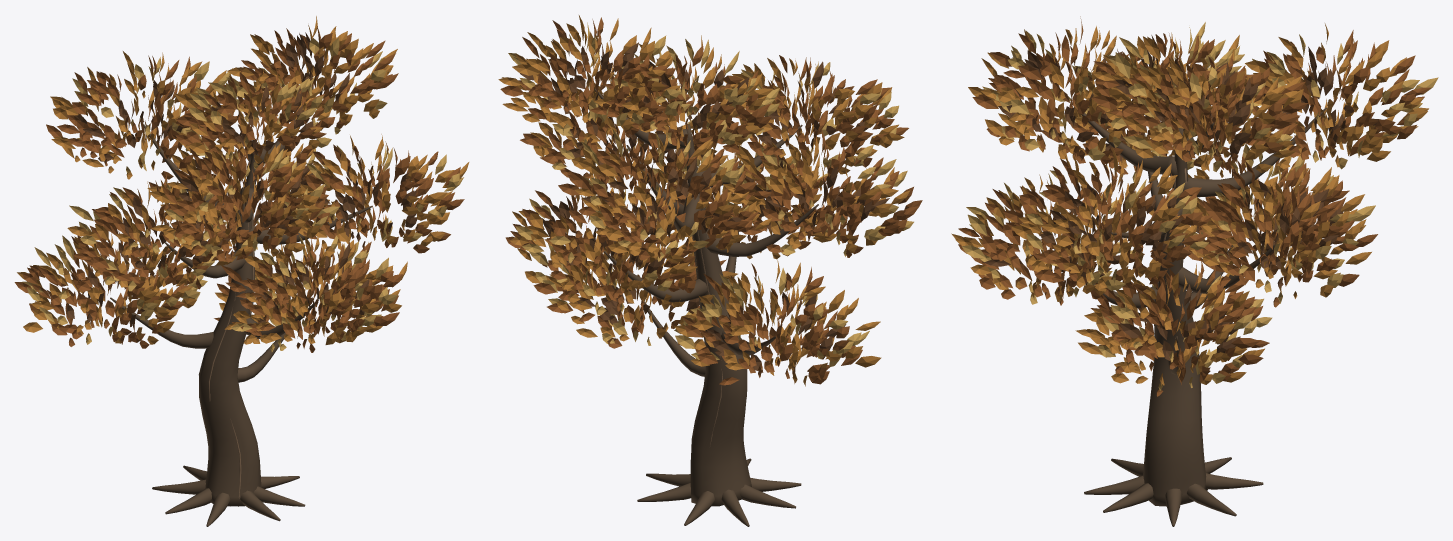
Rendered from amber_tree.glb.
3 views of the same model, side by side, from view 1: azimuth 30°, elevation 25°; view 2: azimuth 150°, elevation 25°; view 3: azimuth 270°, elevation 25° (orthographic). The views are drawn at different scales.
Visible parts, largest first — view 1: amber_tree; view 2: amber_tree; view 3: amber_tree.
Part boxes in pixels (bbox=[...]): amber_tree: bbox=[14, 16, 469, 526]; amber_tree: bbox=[498, 15, 922, 526]; amber_tree: bbox=[951, 16, 1438, 526].
Size of the model in its own units: 5.8 by 6.16 by 5.55.
3 materials, 3 textured.
